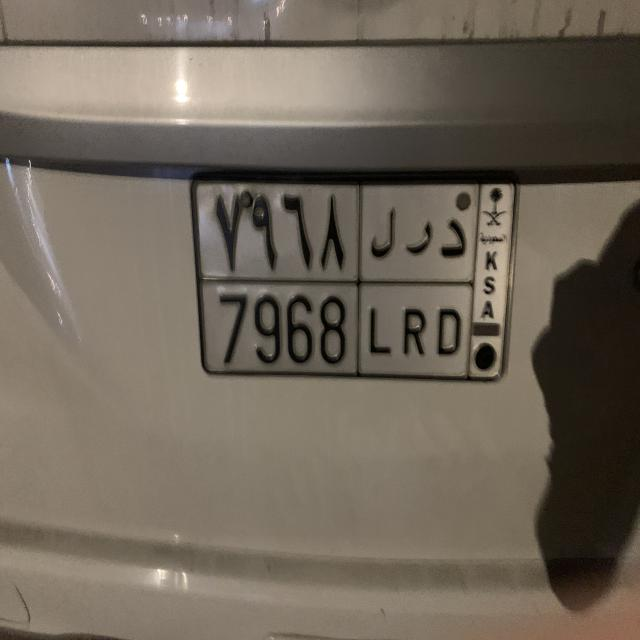license_plate: (186, 164, 521, 390)
